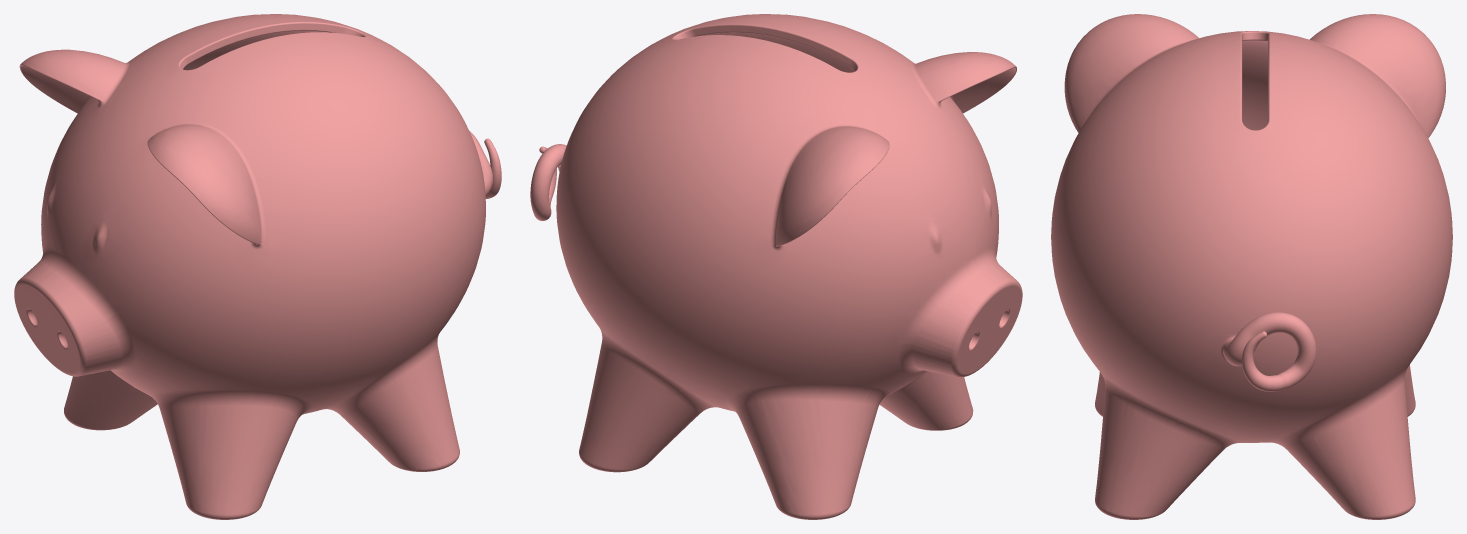
The model's file is piggy_bank.glb.
3 renders of one model, left to right at view 1: azimuth 30°, elevation 25°; view 2: azimuth 150°, elevation 25°; view 3: azimuth 270°, elevation 25°, orthographic.
Visible parts, largest first — view 1: Object_2; view 2: Object_2; view 3: Object_2.
Boxes of the visible parts, <box> form: Object_2: <box>14,14,501,519</box>; Object_2: <box>530,14,1022,519</box>; Object_2: <box>1051,14,1452,519</box>.
Bounding box in the file's own units: 174 × 146 × 132.
